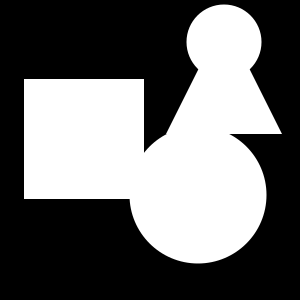circle: (24, 79, 144, 199)
rectangle: (130, 126, 266, 264), (186, 5, 262, 80)
triangle: (166, 18, 282, 134)
